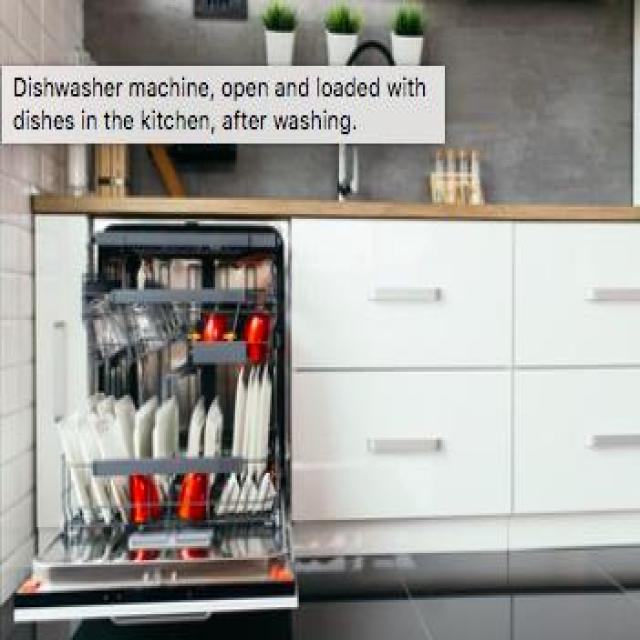dishwasher: (11, 216, 295, 624)
